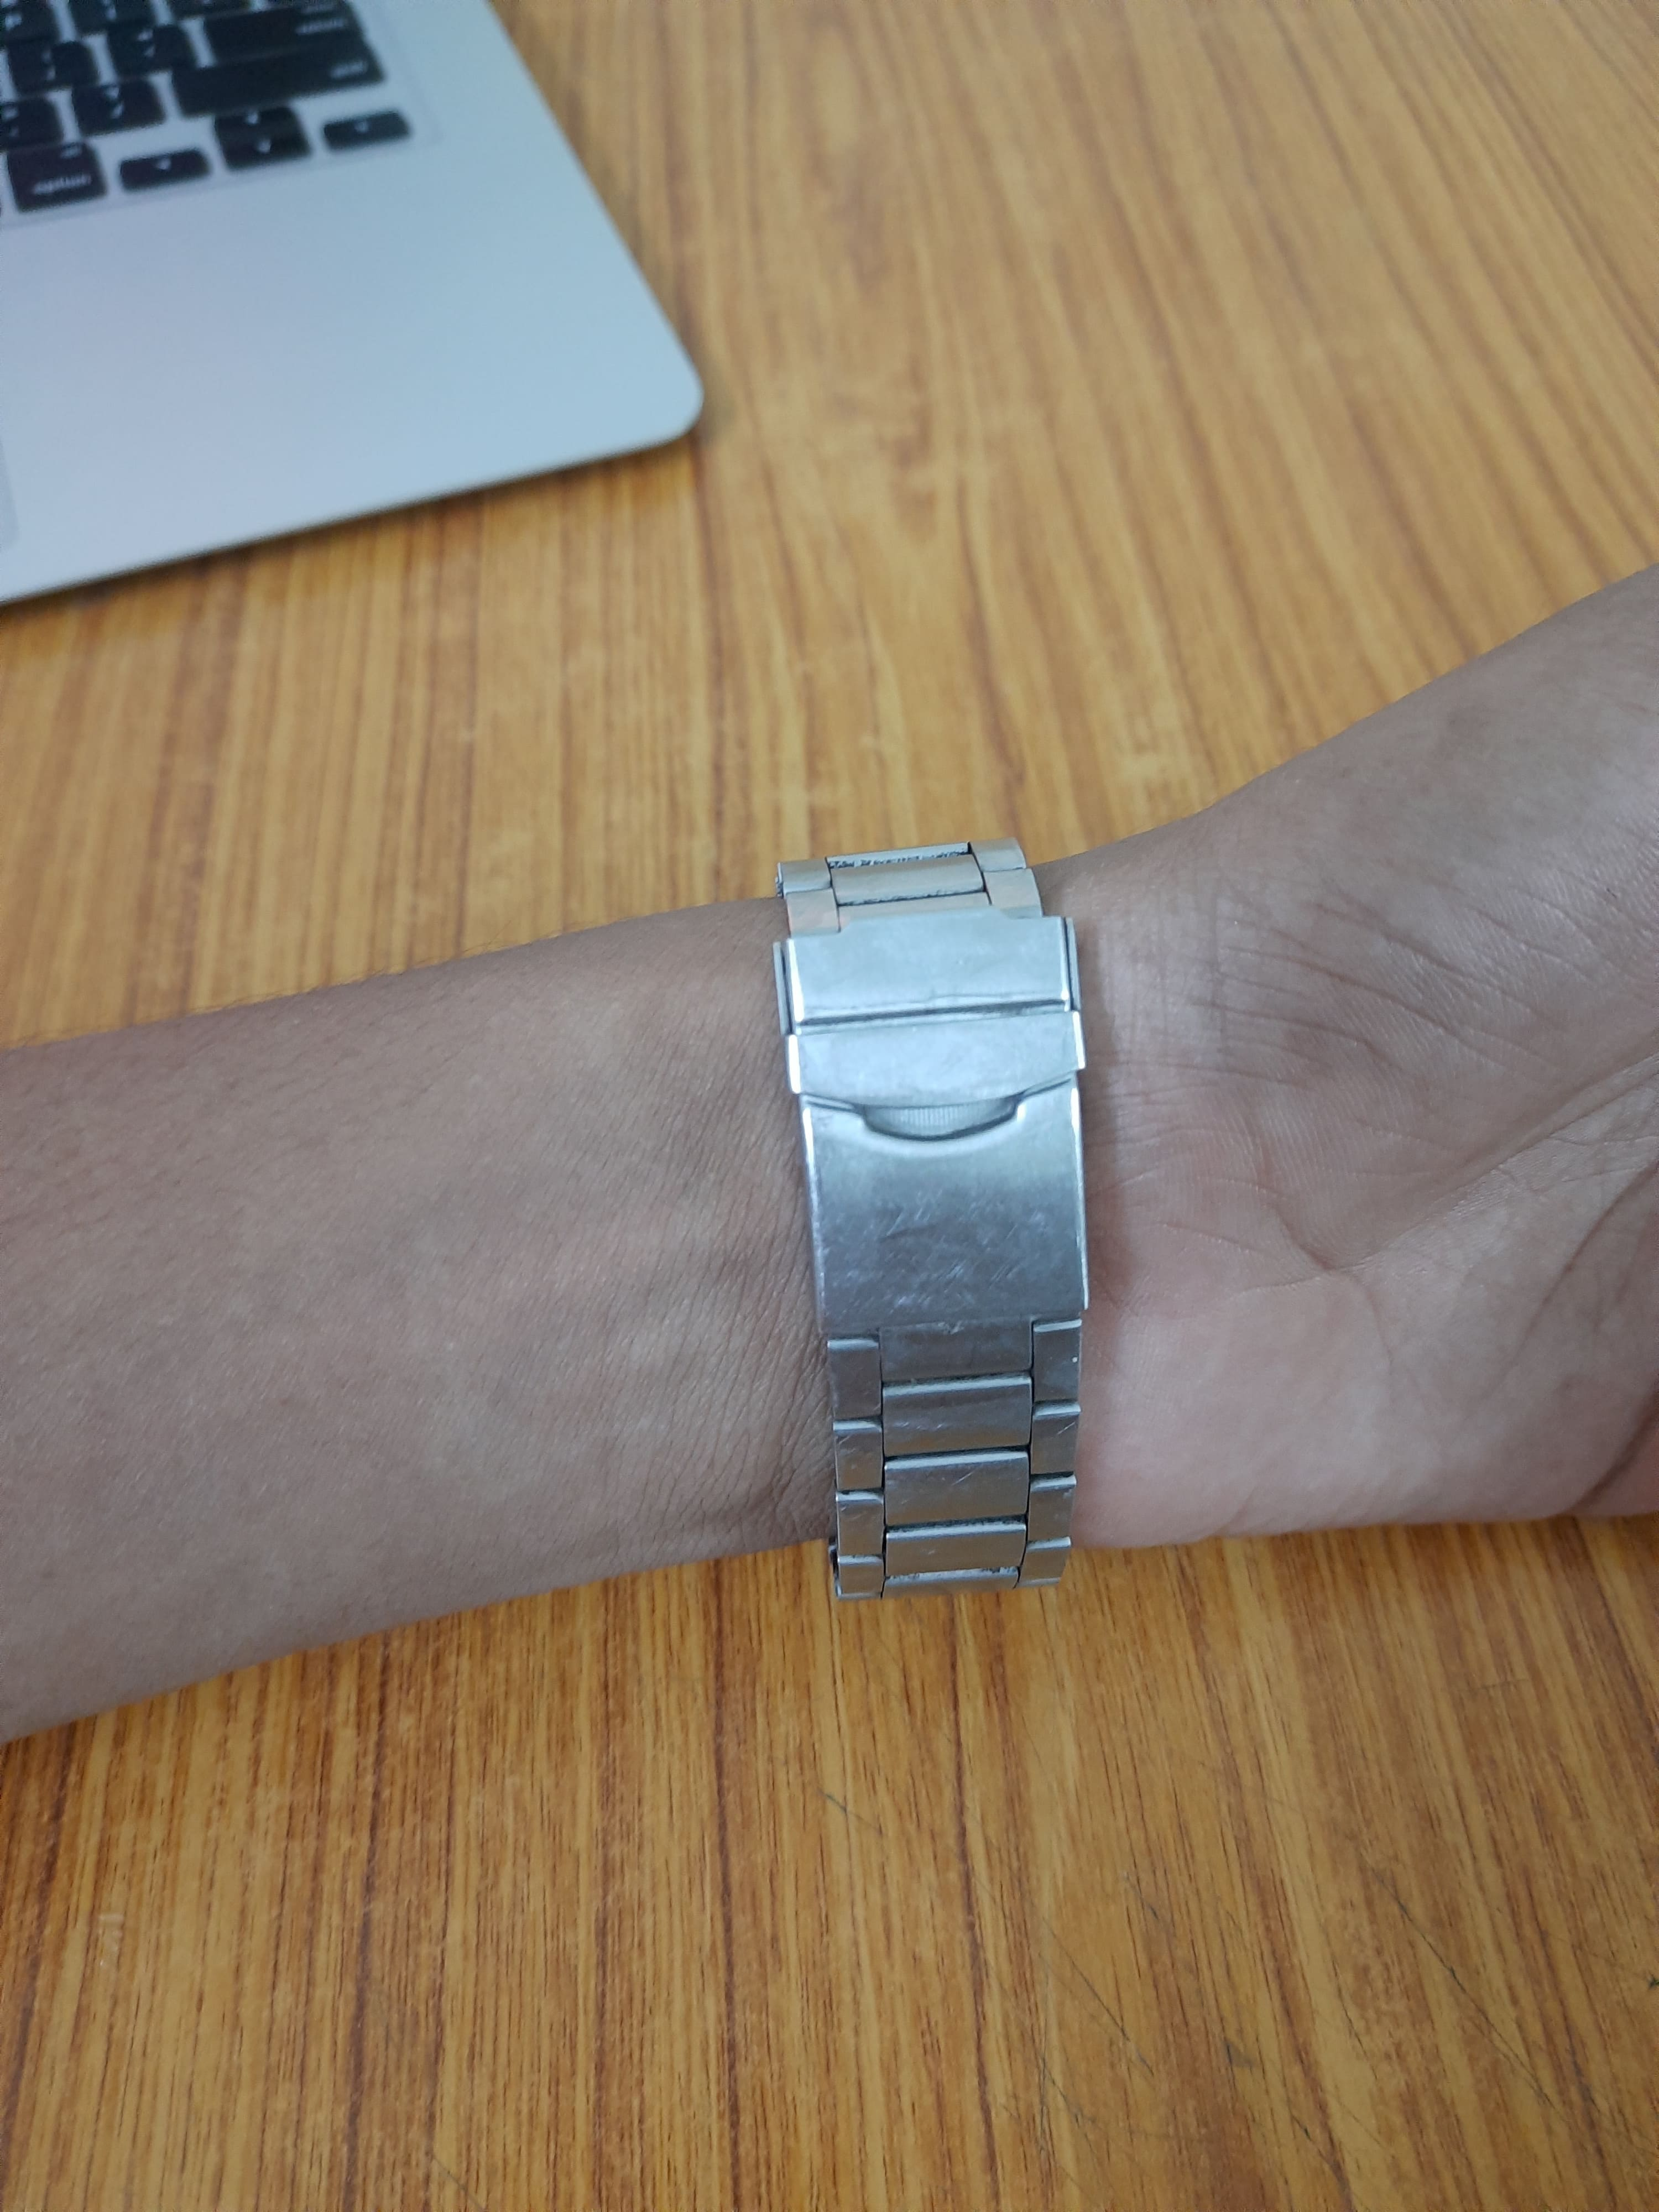Vikash's Watch: (723, 841, 1166, 1651)
